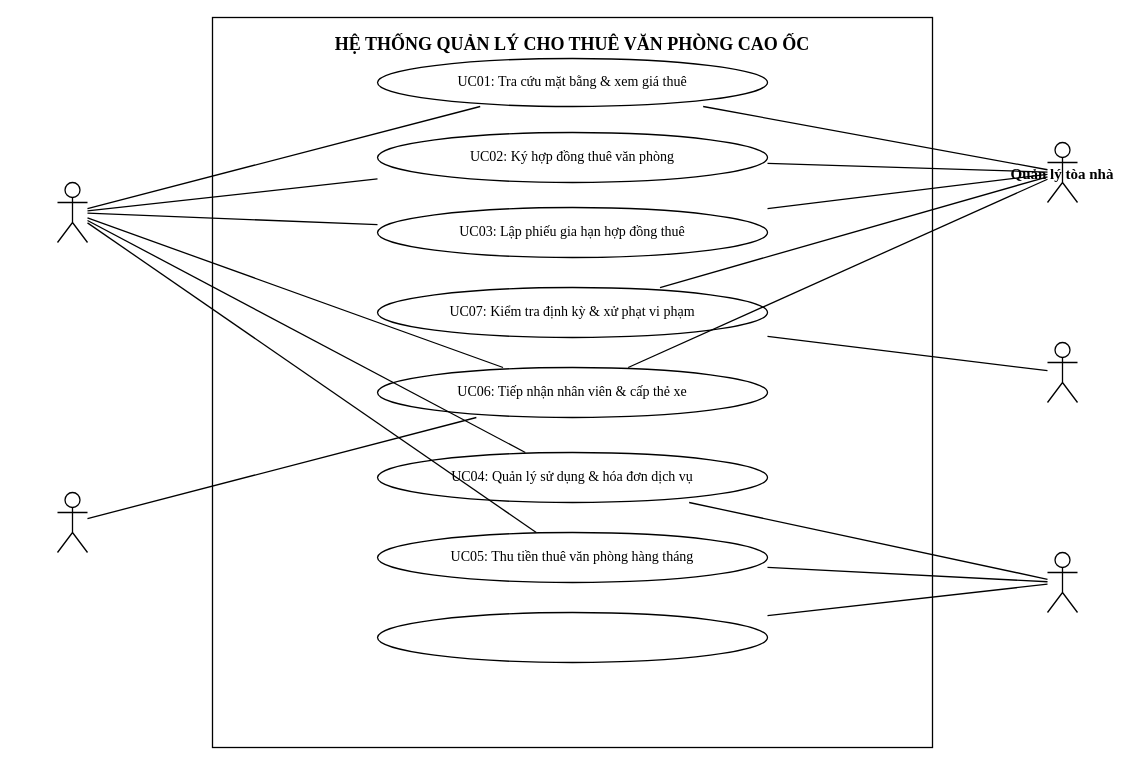
Image size: 1132x766. Some labels were removed from this diagram. Here are the shapes that lost their labels. From the top down, the centre of each, then its label:
the point at 72,212: Khách hàng thuê
the point at 1062,372: Kỹ thuật bảo trì
the point at 72,522: Bảo vệ / QL xe
the point at 1062,582: Kế toán
the point at 572,637: UC08: Báo cáo & thống kê hoạt động cao ốc
